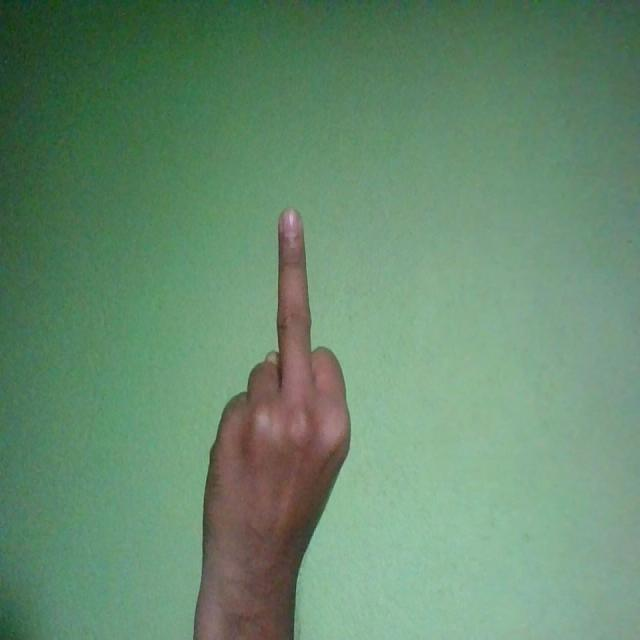Middle Finger: (202, 205, 350, 622)
